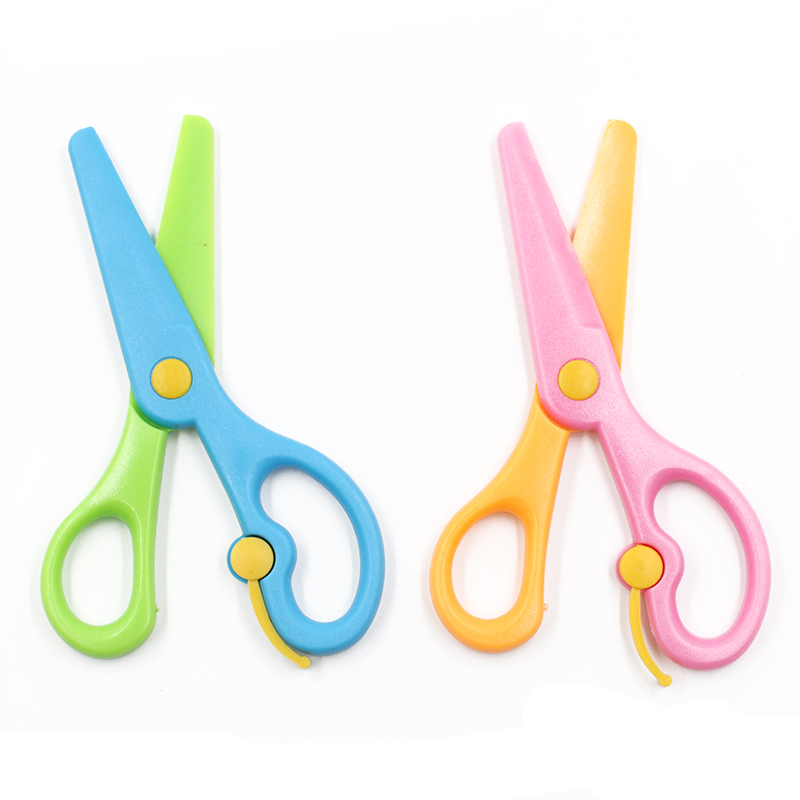scissors: (36, 110, 395, 689), (434, 117, 775, 691)
